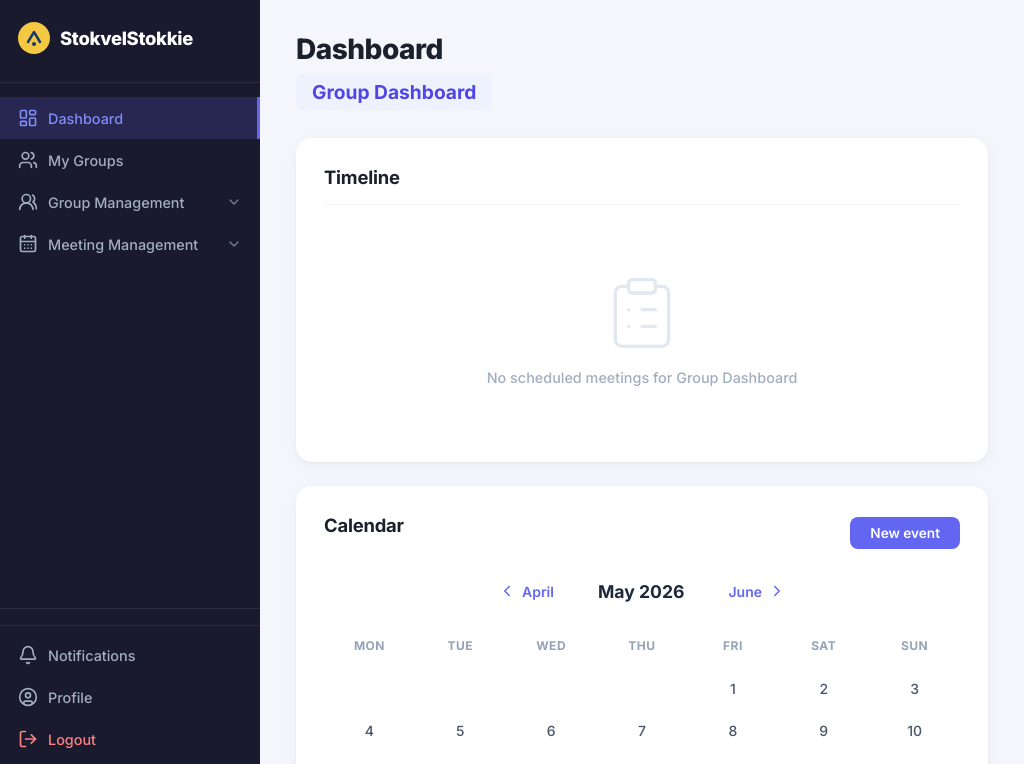
AdminDashboard Component › covers "You" text conditional statement and lists names cleanly
The image size is (1024, 764).
What coordinates should you click on to do the following:
click the button "Group Management"
I would click on:
 (130, 202)
Its box is [0, 181, 260, 223].
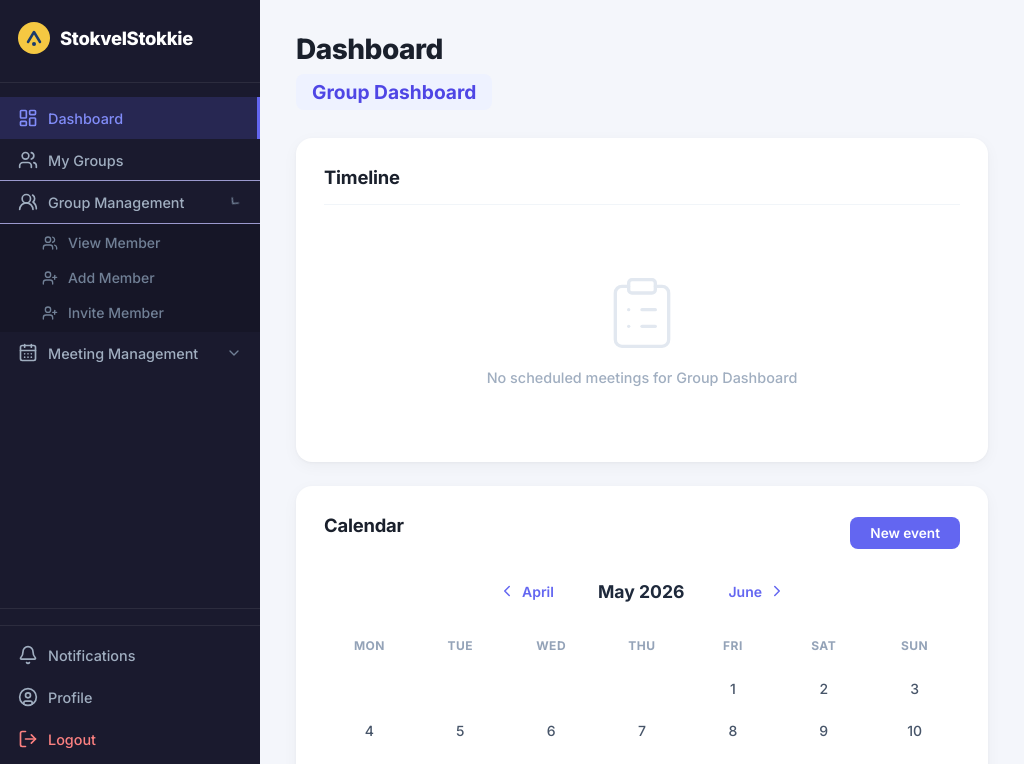
What coordinates should you click on to do the following:
click the button "View Member"
I would click on:
 (130, 242)
Its box is [0, 225, 260, 260].
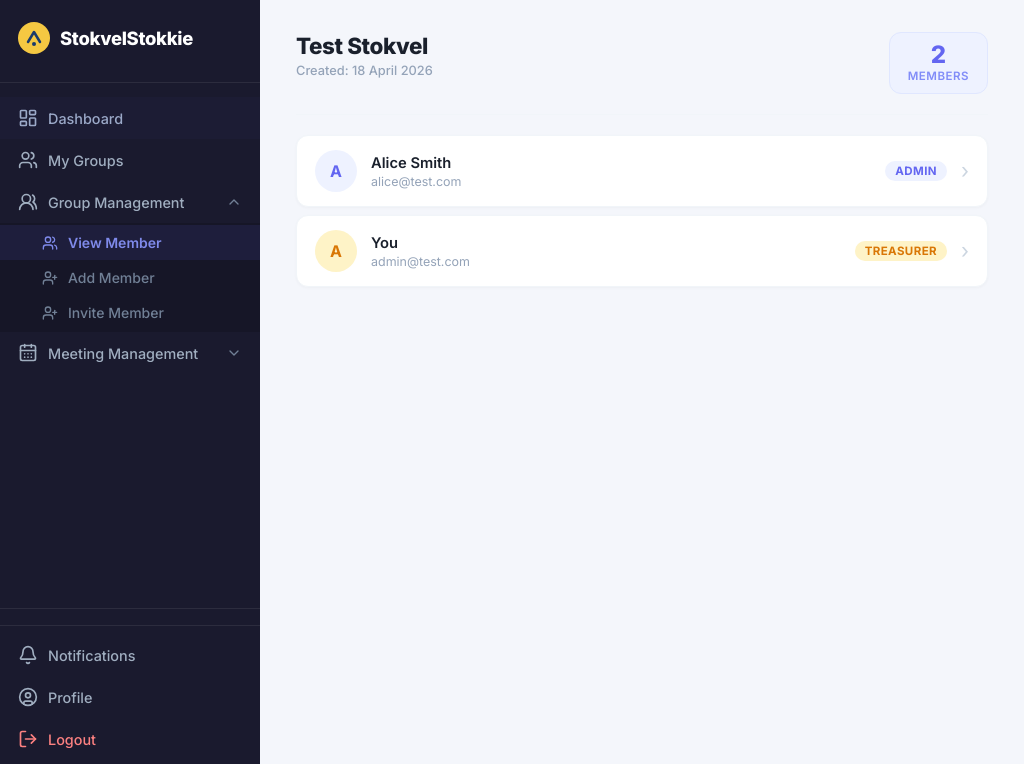
Check: the text "You" is shown, box [371, 234, 398, 252]
Check: the text "Alice Smith" is shown, box [371, 154, 451, 172]
